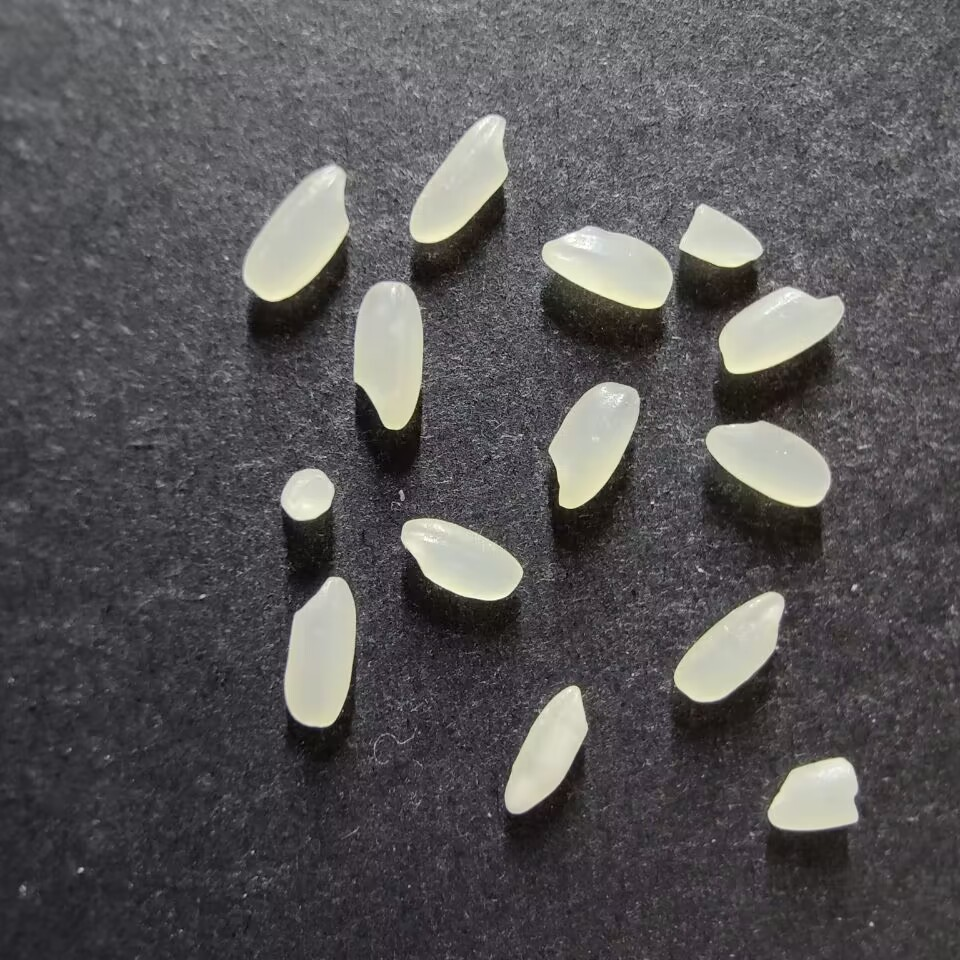broken: (767, 757, 859, 831), (677, 203, 763, 268), (279, 468, 334, 521)
rice: (241, 164, 349, 302), (408, 113, 508, 243), (672, 590, 786, 703), (547, 380, 640, 509), (718, 285, 844, 374), (282, 576, 356, 727), (540, 225, 673, 309), (502, 685, 588, 814), (705, 420, 831, 507), (352, 280, 422, 431), (400, 517, 523, 601)
